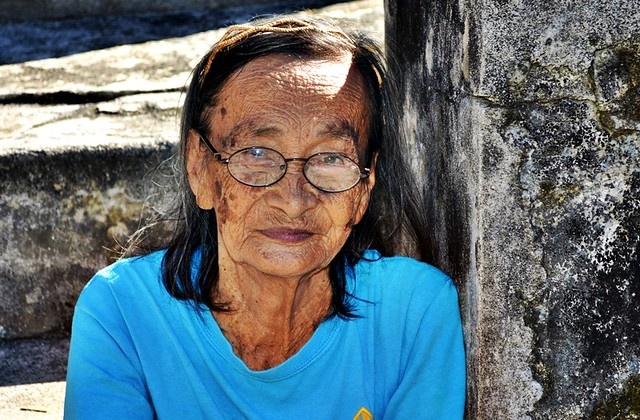without_mask: (173, 46, 386, 273)
